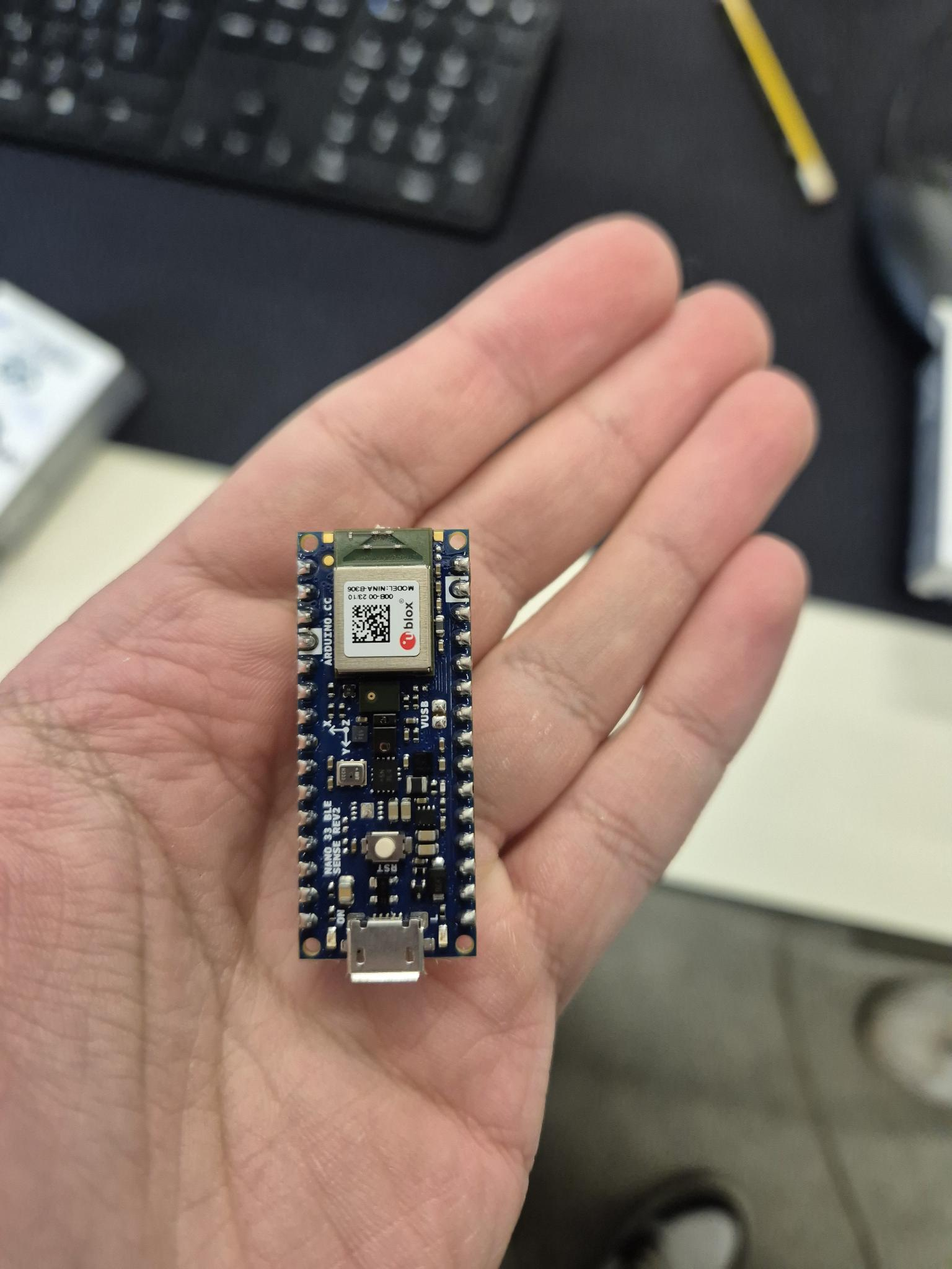arduino-nano-ble-sense: (297, 528, 476, 982)
